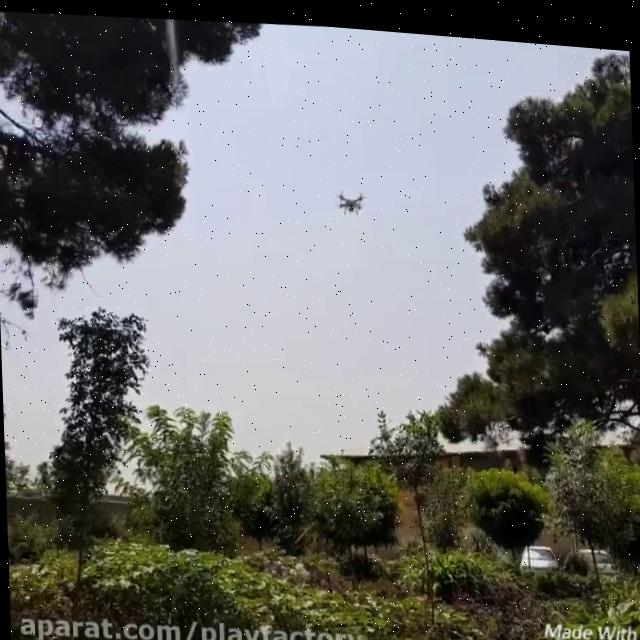drone: (328, 175, 378, 214)
